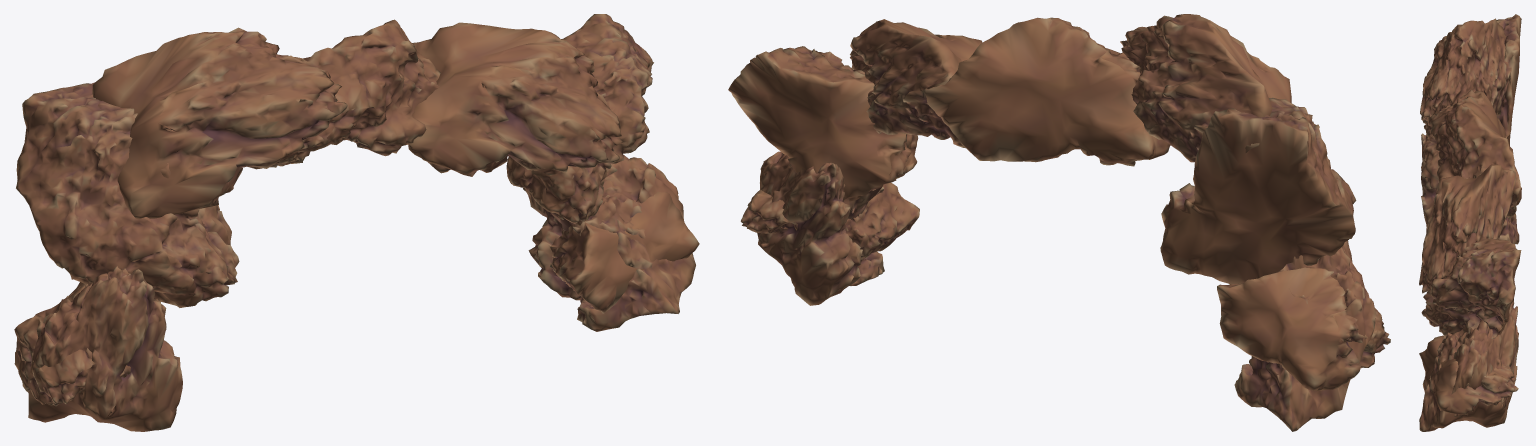
The model's file is canyon-arch-dusk-v1.glb.
3 views of the same model, side by side, from view 1: azimuth 30°, elevation 25°; view 2: azimuth 150°, elevation 25°; view 3: azimuth 270°, elevation 25° (orthographic). The views are drawn at different scales.
Parts seen in each view (by area): view 1: canyon-arch-dusk-v1; view 2: canyon-arch-dusk-v1; view 3: canyon-arch-dusk-v1.
Part boxes in pixels (<box>): canyon-arch-dusk-v1: <box>14,14,699,431</box>; canyon-arch-dusk-v1: <box>728,14,1390,431</box>; canyon-arch-dusk-v1: <box>1419,14,1521,431</box>.
Size of the model in its own units: 170 by 94 by 33.
